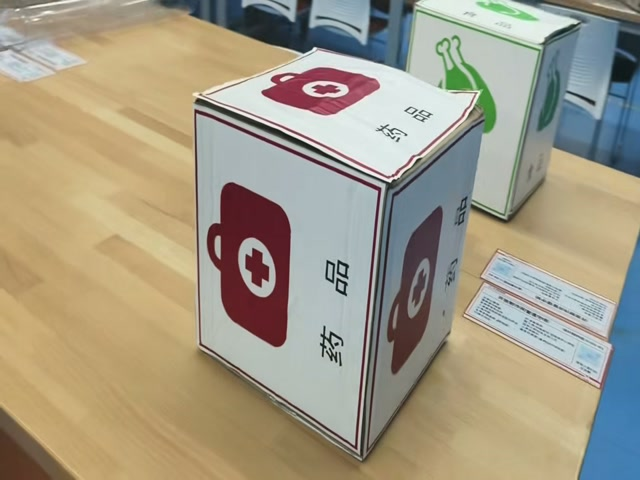Cube_food: (413, 0, 576, 48)
Cube_medicine: (188, 50, 478, 186)
